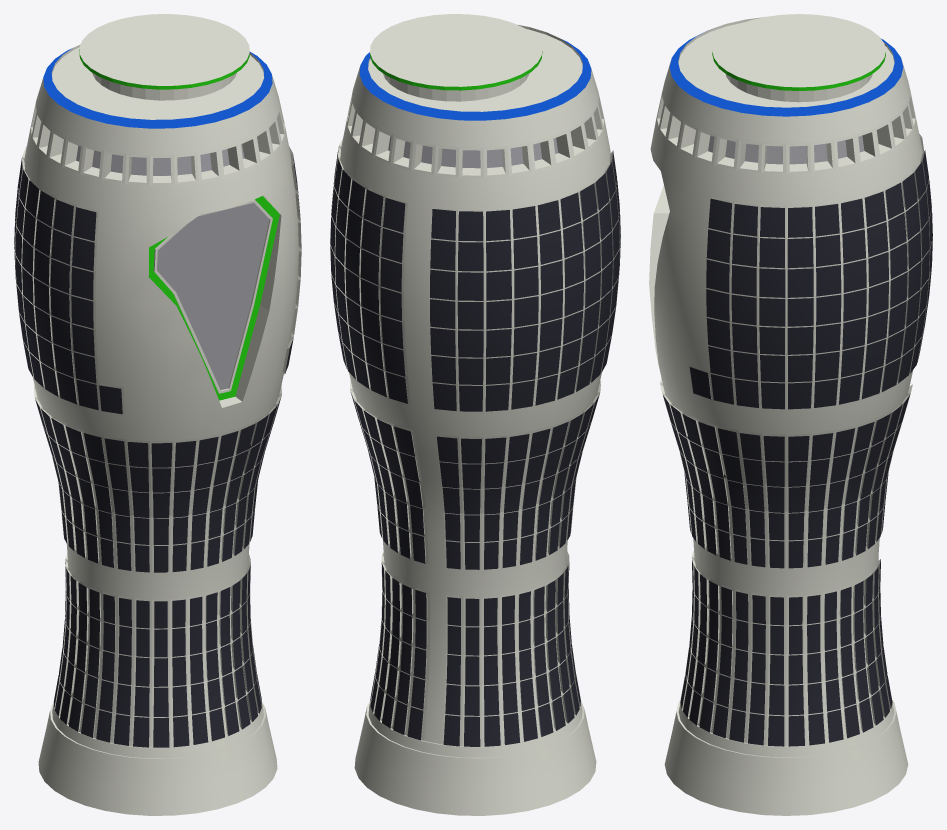
Rendered from GlassHarp.FBX.
3 renders of one model, left to right at view 1: azimuth 30°, elevation 25°; view 2: azimuth 150°, elevation 25°; view 3: azimuth 270°, elevation 25°, orthographic.
Parts seen in each view (by area): view 1: GlassHarp; view 2: GlassHarp; view 3: GlassHarp.
Part boxes in pixels (x1=…): GlassHarp: x1=14, y1=14, x2=301, y2=815; GlassHarp: x1=330, y1=14, x2=620, y2=815; GlassHarp: x1=649, y1=14, x2=932, y2=815.
Size of the model in its own units: 266 by 721 by 258.
